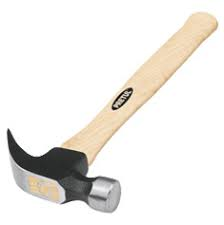martillu: (4, 5, 220, 216)
